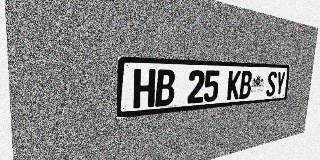2: (187, 70, 205, 104)
5: (203, 70, 220, 102)
B: (155, 69, 175, 107), (239, 71, 252, 99)
H: (133, 69, 156, 109)
K: (227, 71, 241, 100)
S: (266, 71, 277, 97)
Y: (275, 72, 286, 96)
